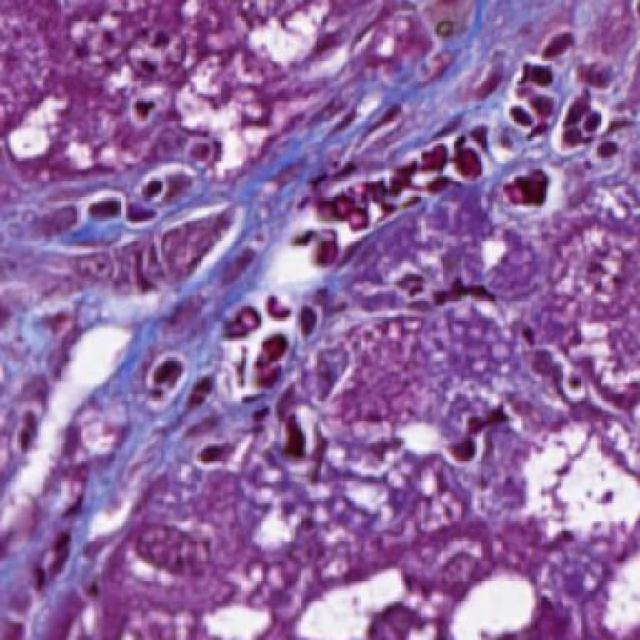inflammation: (78, 178, 178, 234)
